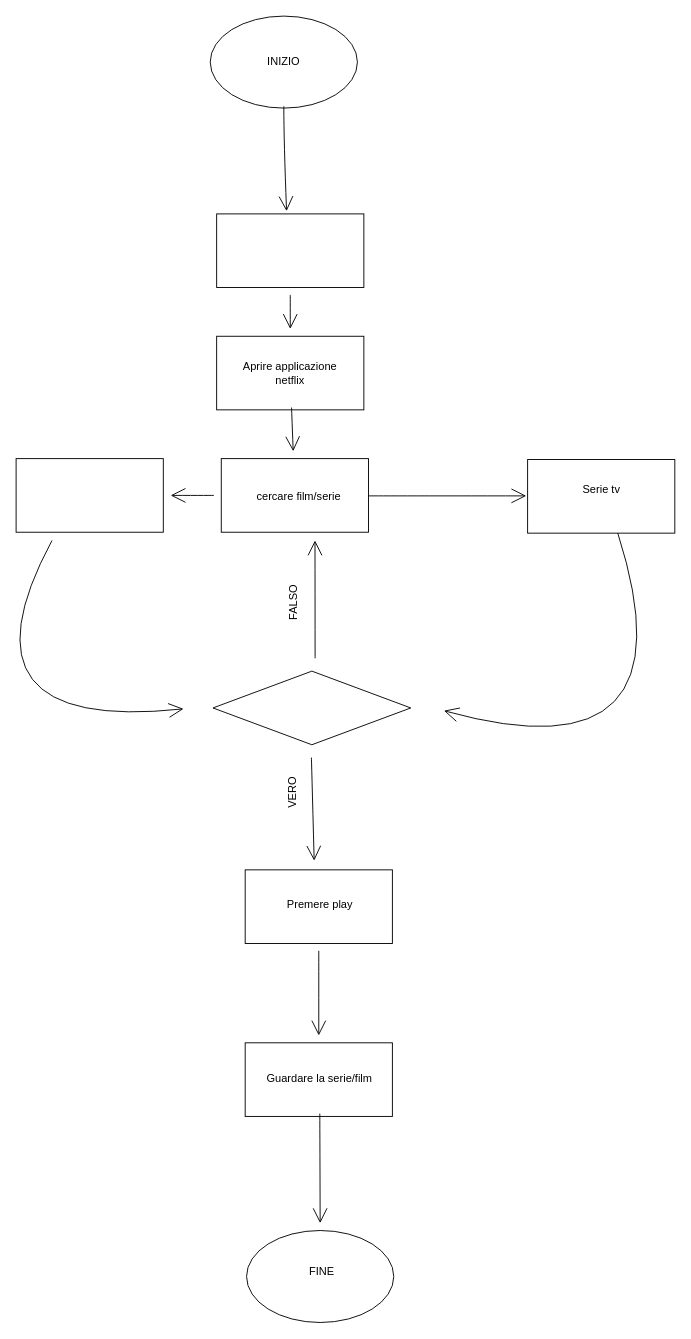
Image size: 691x1339. Some labels were removed from this diagram. The centre of each missing label's shape, as x and y in pixels:
Accendere la tele: the point at 290,250
Film: the point at 89,495
Trovato il film/serie da vedere?: the point at 311,707
